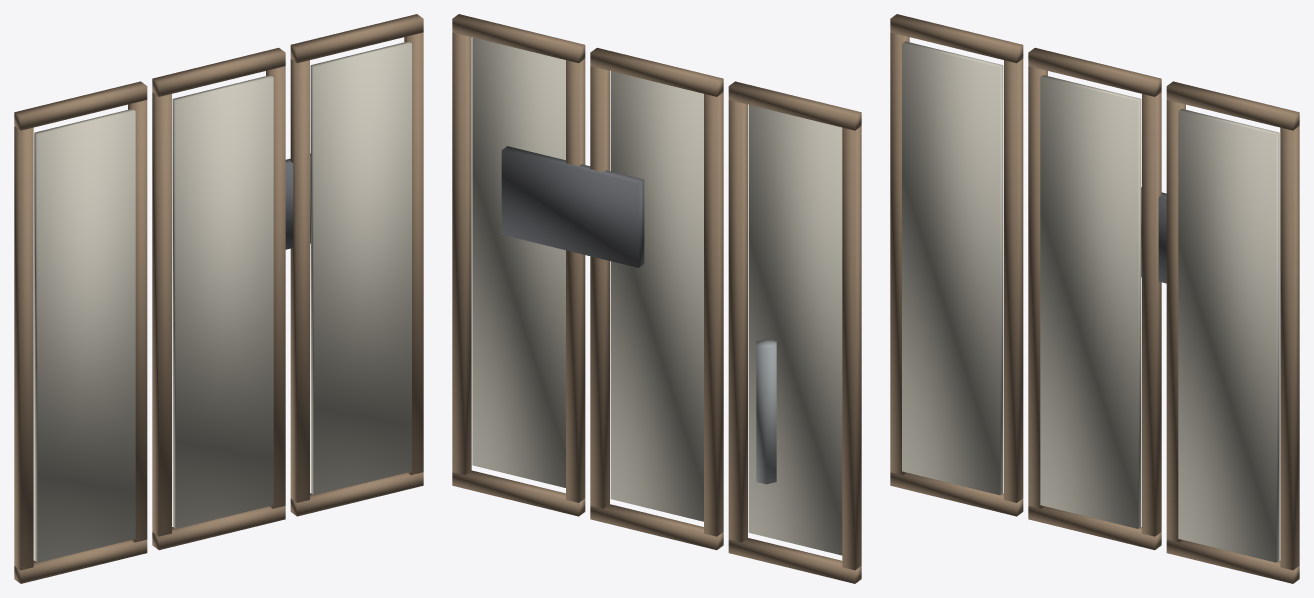
The model's file is funeral_folding_screen__service.glb.
The picture shows the model from 3 angles, left to right: view 1: azimuth 30°, elevation 25°; view 2: azimuth 150°, elevation 25°; view 3: azimuth 330°, elevation 25°; orthographic projection.
Parts seen in each view (by area): view 1: world; view 2: world; view 3: world.
Part boxes in pixels (box(x1,y1,x2,y2)): world: box(14, 14, 423, 583); world: box(452, 14, 861, 583); world: box(890, 14, 1299, 583).
Size of the model in its own units: 1.4 by 1.55 by 0.0853.
